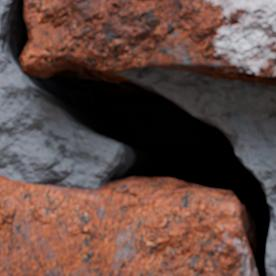brick: (0, 176, 256, 275), (21, 0, 275, 85)
crack: (0, 0, 273, 275)
